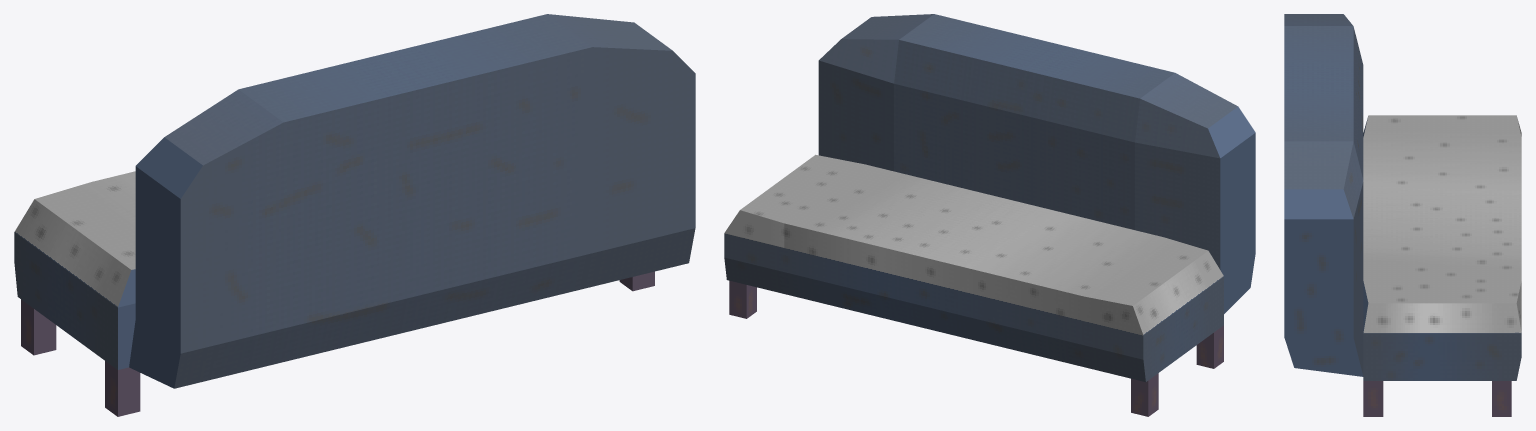
The model's file is Couch.gltf.
3 renders of one model, left to right at view 1: azimuth 30°, elevation 25°; view 2: azimuth 150°, elevation 25°; view 3: azimuth 270°, elevation 25°, orthographic. The views are drawn at different scales.
Visible parts, largest first — view 1: cuboid (×2), cube (×2); view 2: cuboid (×2), cube (×3); view 3: cuboid (×2), cube (×2).
Part boxes in pixels (x1,y1,x2,y2): cuboid (×2): [14, 14, 695, 388]; cube (×2): [21, 299, 140, 416]; cuboid (×2): [724, 14, 1255, 382]; cube (×3): [729, 280, 1223, 416]; cuboid (×2): [1284, 14, 1521, 380]; cube (×2): [1363, 381, 1511, 416].
Size of the model in its own units: 3 by 1.62 by 1.5.
1 material, 1 textured.
